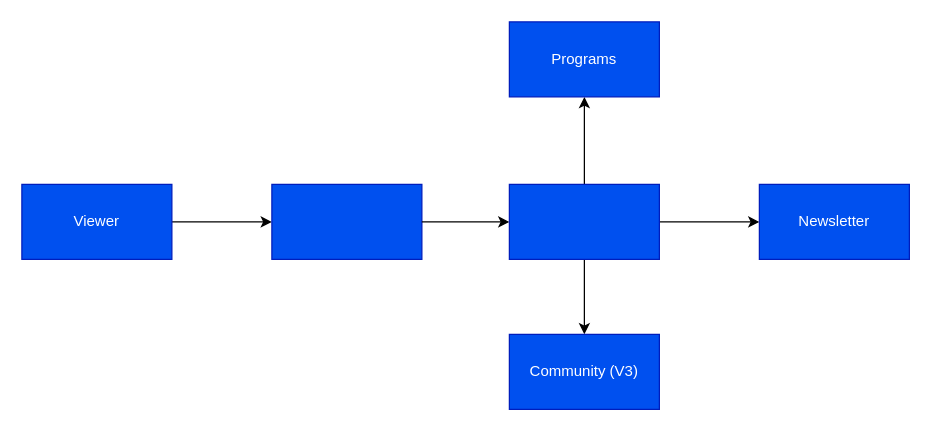
This 931x431 diagram has some shape labels left out. Each missing label, with the box of its shape:
Website: (508, 183, 659, 259)
Youtube: (271, 183, 422, 259)
